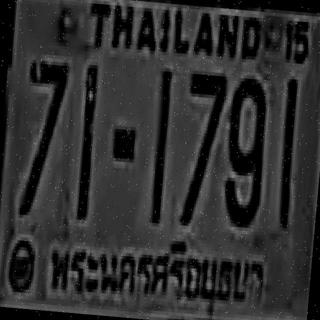N01: (74, 61, 99, 217), (147, 68, 172, 223), (274, 76, 298, 224)
N07: (17, 56, 69, 214), (177, 67, 227, 225)
N09: (220, 74, 269, 225)
P03: (42, 228, 269, 320)
